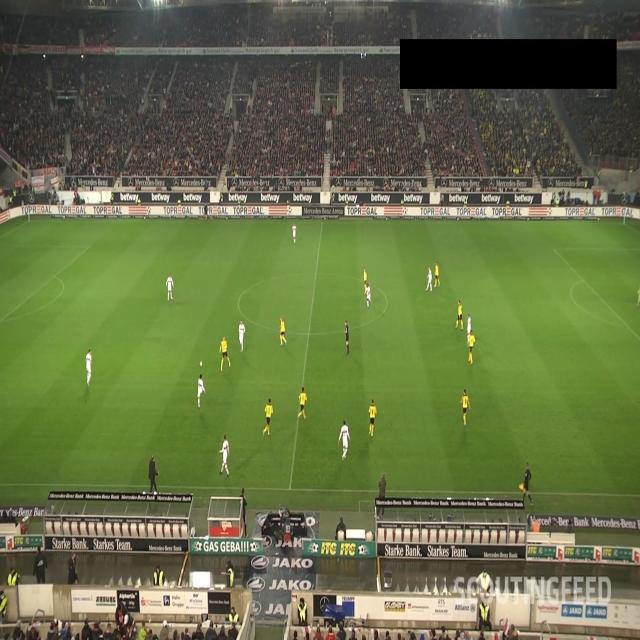ball: (199, 360, 203, 367)
